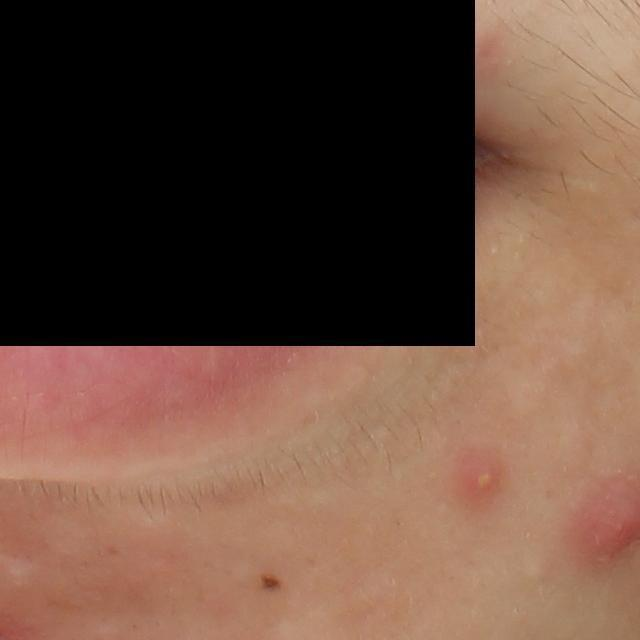nevus: (262, 571, 285, 592)
pustule: (466, 455, 509, 499)
